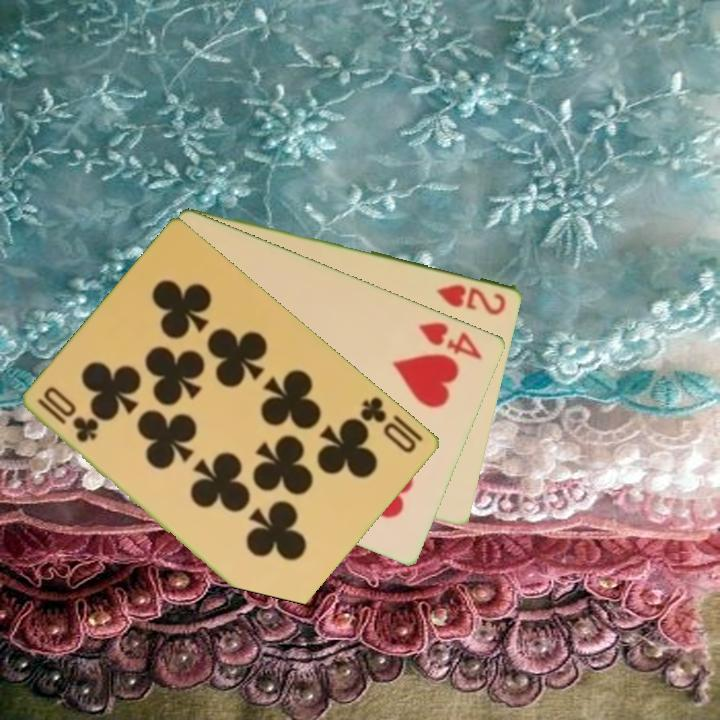10c: (357, 392, 420, 456), (34, 394, 102, 446)
2h: (433, 280, 510, 318)
4h: (415, 318, 485, 362)
